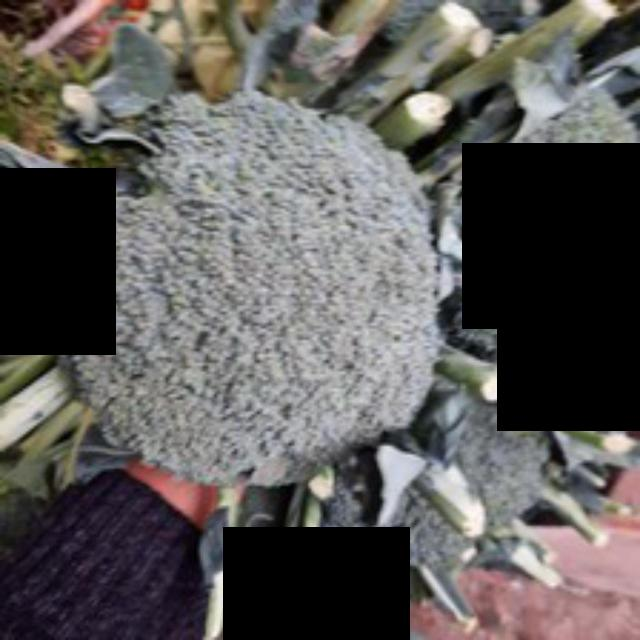broccoli: (58, 89, 443, 501)
